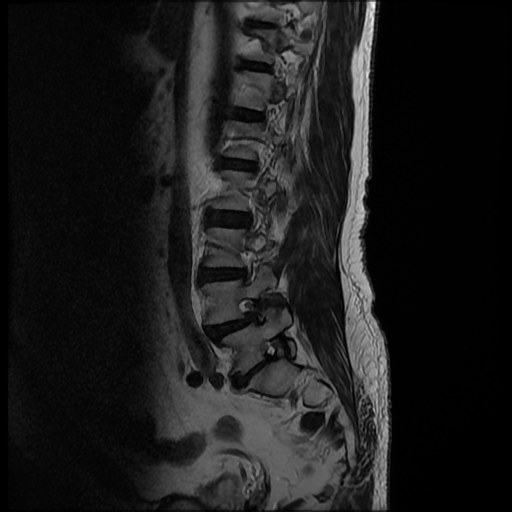RFS2: (233, 290, 271, 333)
